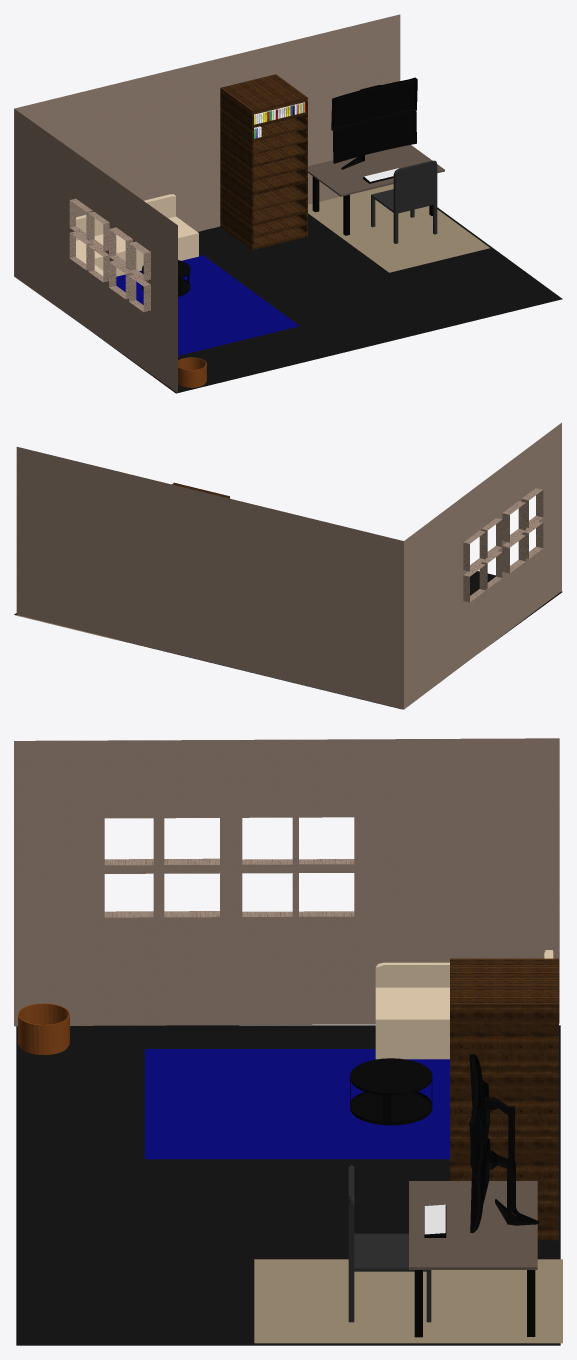
The model's file is UserAnimation.glb.
The picture shows the model from 3 angles, top to bottom: view 1: azimuth 30°, elevation 25°; view 2: azimuth 150°, elevation 25°; view 3: azimuth 270°, elevation 25°; orthographic projection. The views are drawn at different scales.
Visible parts, largest first — view 1: Plane.003, Floor, Plane.002, Cube, Plane.001, Carpet, Table slap, Cube.001, Screen, Couch, Screem 2, Cylinder (+2 smaller); view 2: Plane.003, Plane.002, Floor; view 3: Plane.002, Floor, Carpet, Cube, Plane.001, Table slap, Couch, Table, Cube.001, Cylinder, Monitor 2, Monitor.
Part boxes in pixels (x1=…): Plane.003: x1=14, y1=14, x2=400, y2=276; Floor: x1=98, y1=207, x2=562, y2=393; Plane.002: x1=14, y1=109, x2=177, y2=392; Cube: x1=220, y1=74, x2=307, y2=250; Plane.001: x1=308, y1=184, x2=489, y2=272; Carpet: x1=116, y1=255, x2=299, y2=355; Table slap: x1=308, y1=145, x2=444, y2=196; Cube.001: x1=371, y1=160, x2=437, y2=243; Screen: x1=335, y1=112, x2=414, y2=162; Couch: x1=76, y1=194, x2=198, y2=276; Screem 2: x1=334, y1=81, x2=415, y2=127; Cylinder: x1=178, y1=357, x2=206, y2=387; Plane.003: x1=16, y1=447, x2=403, y2=709; Plane.002: x1=404, y1=422, x2=561, y2=709; Floor: x1=14, y1=571, x2=562, y2=709; Plane.002: x1=14, y1=738, x2=559, y2=1026; Floor: x1=16, y1=1025, x2=560, y2=1345; Carpet: x1=145, y1=1049, x2=449, y2=1159; Cube: x1=450, y1=958, x2=558, y2=1240; Plane.001: x1=254, y1=1259, x2=562, y2=1343; Table slap: x1=409, y1=1181, x2=537, y2=1269; Couch: x1=375, y1=950, x2=553, y2=1059; Table: x1=350, y1=1058, x2=432, y2=1125; Cube.001: x1=348, y1=1165, x2=431, y2=1322; Cylinder: x1=18, y1=1003, x2=69, y2=1054; Monitor 2: x1=469, y1=1054, x2=514, y2=1177; Monitor: x1=470, y1=1110, x2=538, y2=1232.
Size of the model in its own units: 18.73 by 7.64 by 13.31.
Materials: 48 (31 with a texture image).
